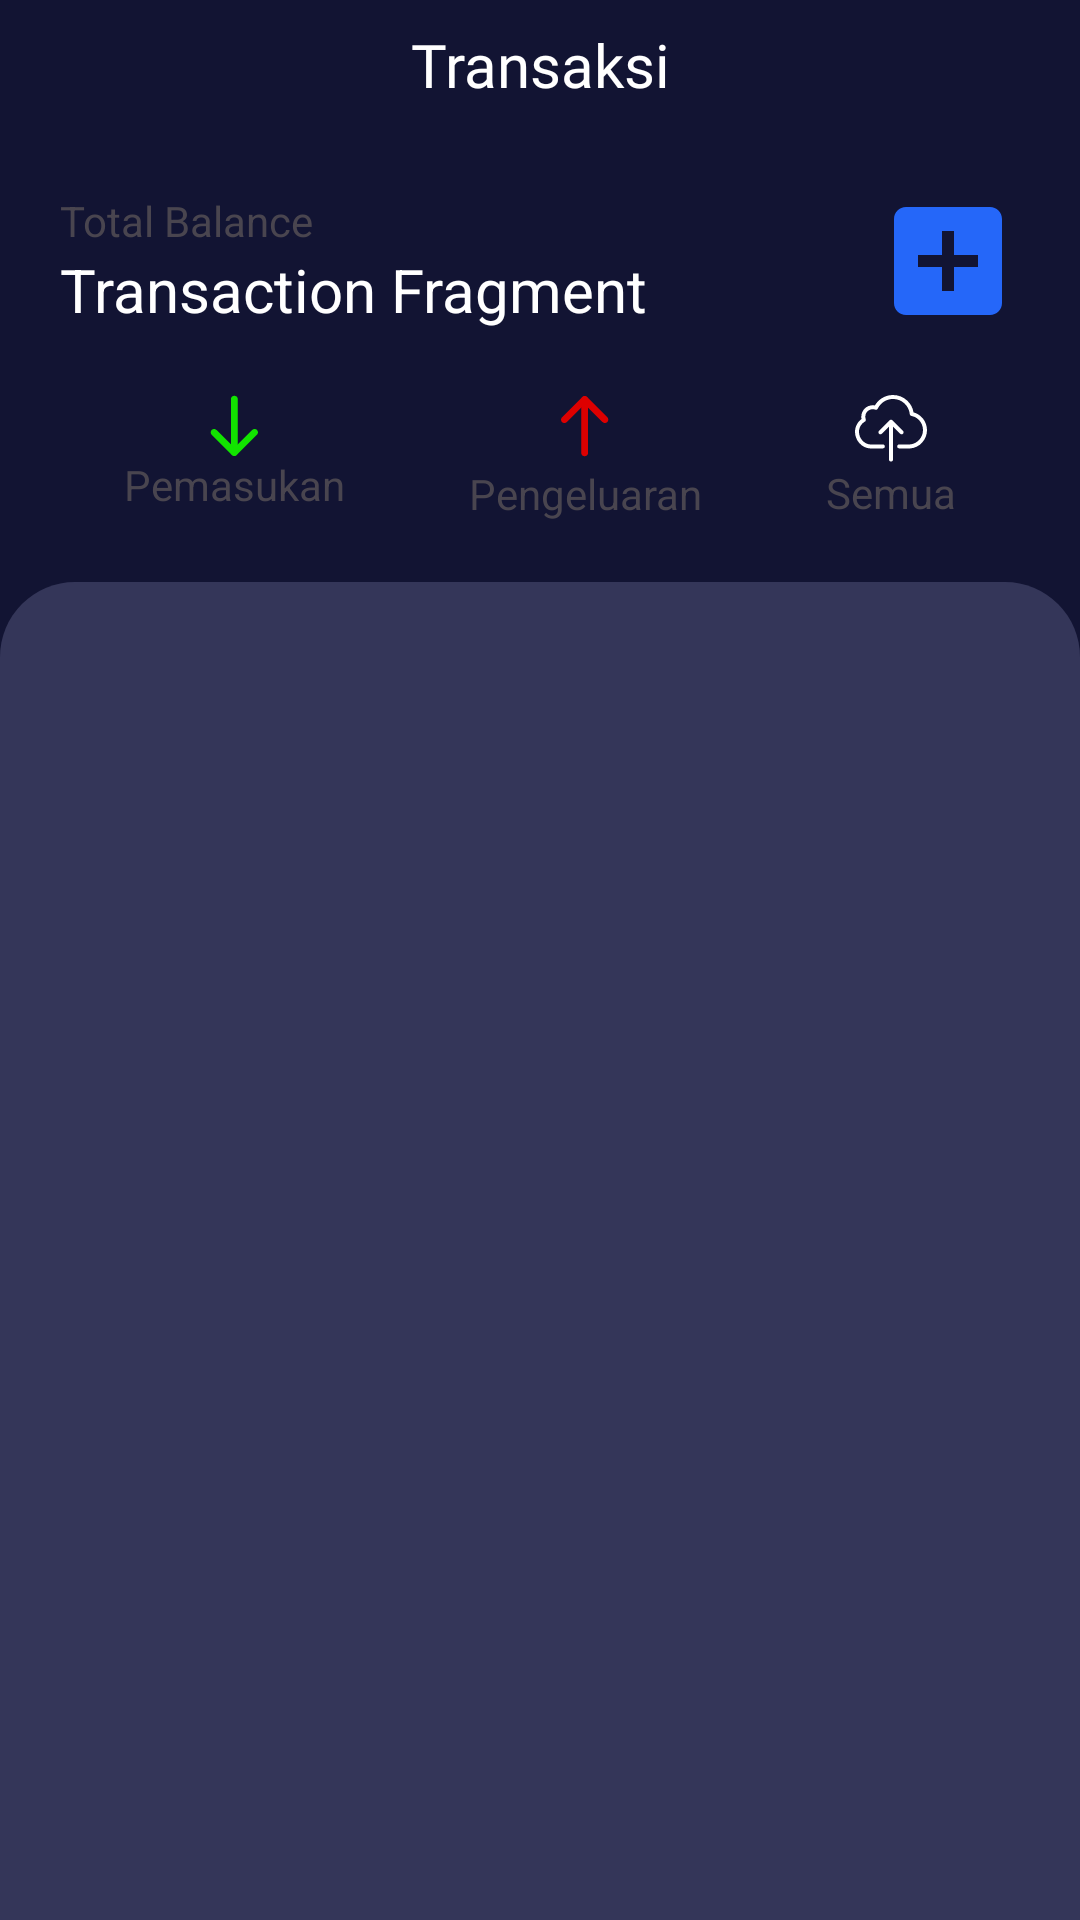

Screen size 1080 × 1920. Icon name, then its box in pixels as (x1, y1, x2, y2):
add button: (894, 207, 1002, 315)
upload: (855, 395, 927, 462)
